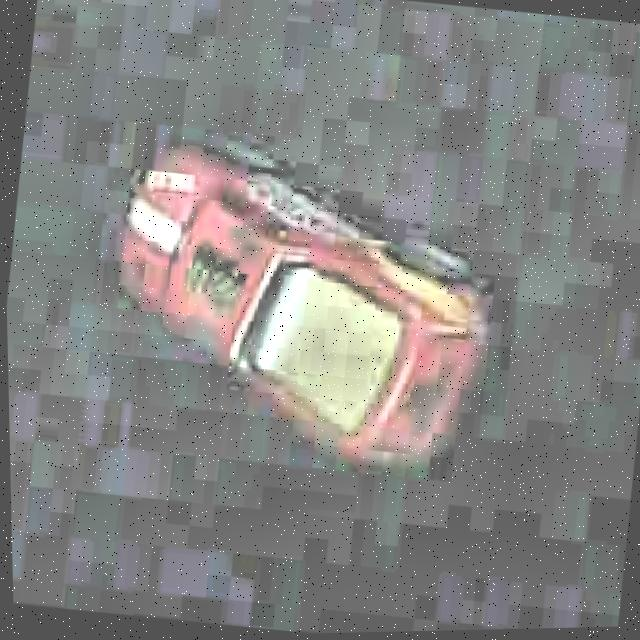car: (81, 113, 520, 490)
